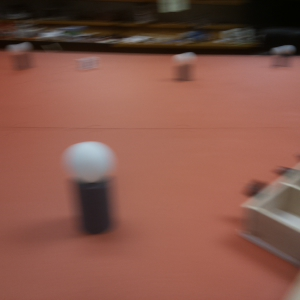obstacle: (66, 135, 118, 238), (174, 50, 195, 83), (11, 42, 32, 71), (275, 43, 292, 70)
side: (233, 157, 300, 196)
